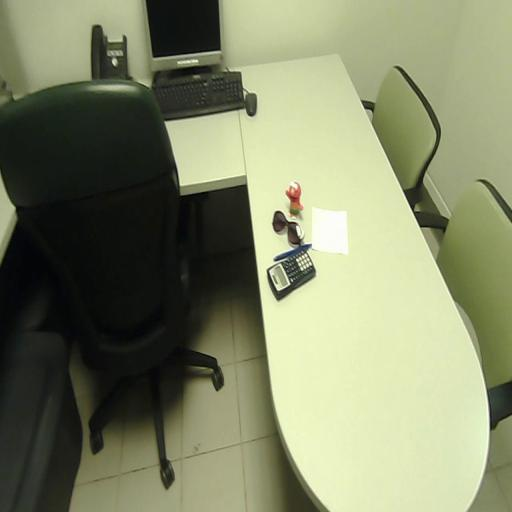pen: (274, 244, 312, 261)
